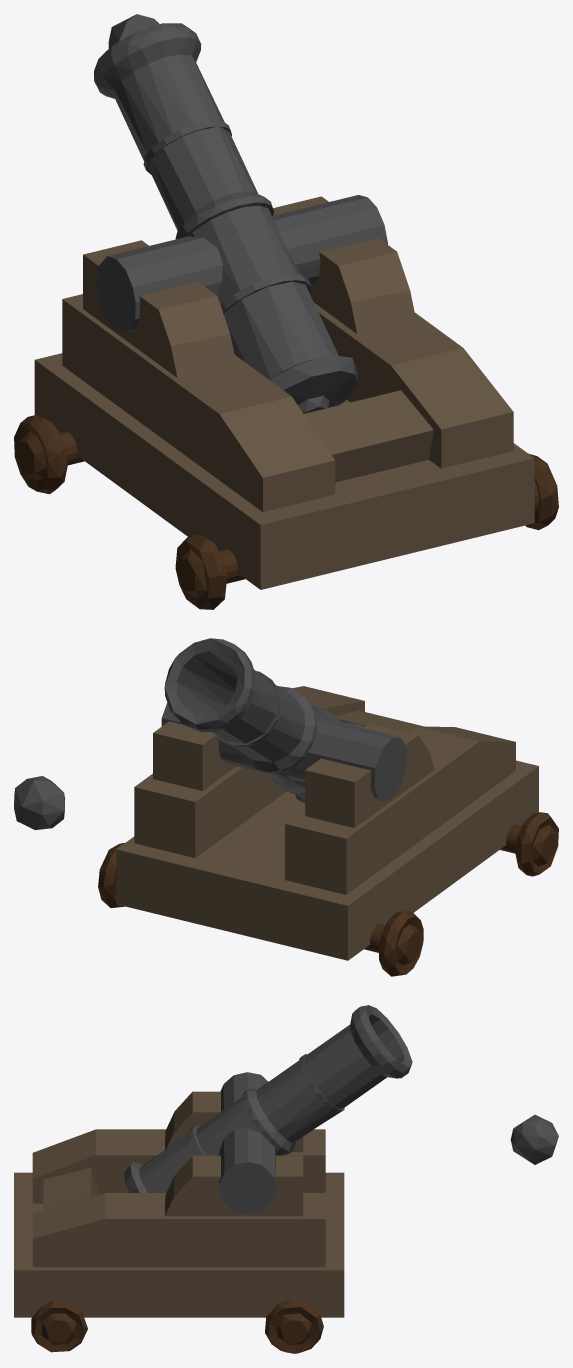
The model's file is cannon.fbx.
3 renders of one model, top to bottom at view 1: azimuth 30°, elevation 25°; view 2: azimuth 150°, elevation 25°; view 3: azimuth 270°, elevation 25°, orthographic. The views are drawn at different scales.
Visible parts, largest first — view 1: Cube.005_Cube.006, Cylinder.001, Cube.005_Cube.000, Icosphere; view 2: Cube.005_Cube.006, Cylinder.001, Cube.005_Cube.000, Icosphere; view 3: Cube.005_Cube.006, Cylinder.001, Cube.005_Cube.000, Icosphere.
Part boxes in pixels (box(x1,y1,x2,y2)): Cube.005_Cube.006: box(34, 196, 534, 589); Cylinder.001: box(94, 23, 387, 413); Cube.005_Cube.000: box(14, 415, 558, 609); Icosphere: box(108, 14, 159, 48); Cube.005_Cube.006: box(116, 686, 538, 960); Cylinder.001: box(161, 638, 406, 802); Cube.005_Cube.000: box(98, 812, 558, 976); Icosphere: box(14, 776, 64, 829); Cube.005_Cube.006: box(14, 1091, 344, 1317); Cylinder.001: box(124, 1005, 412, 1213); Cube.005_Cube.000: box(31, 1300, 323, 1353); Icosphere: box(510, 1114, 558, 1164).
Size of the model in its own units: 214 by 222 by 383.
